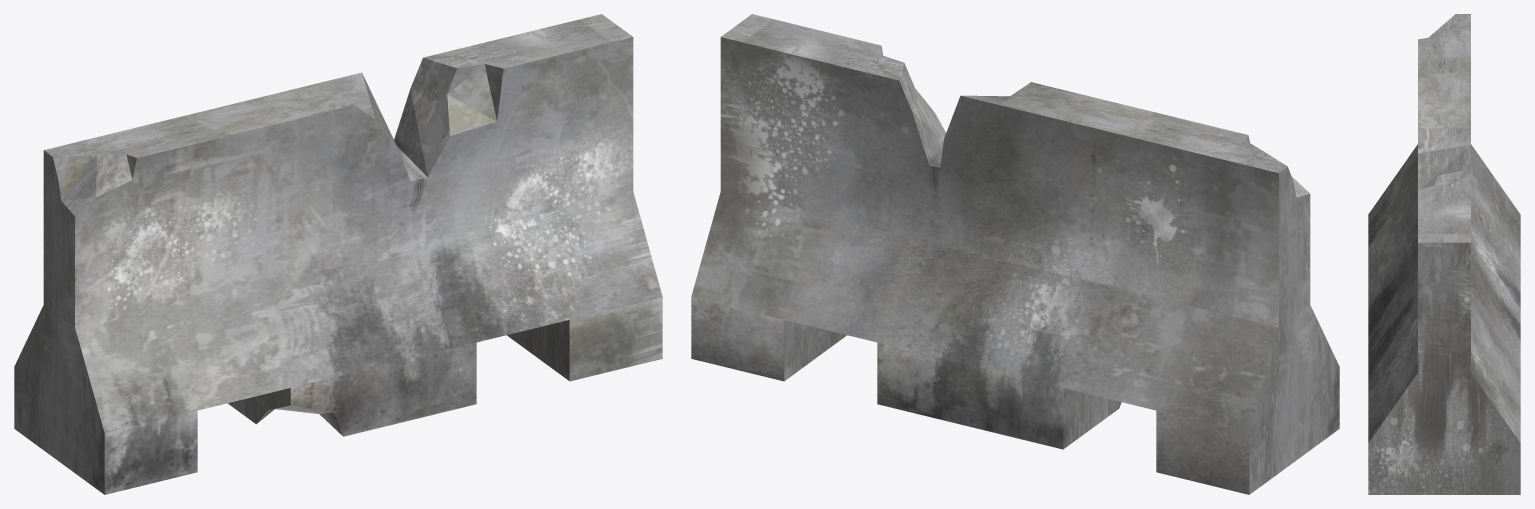
The model's file is Barrera.obj.
3 renders of one model, left to right at view 1: azimuth 30°, elevation 25°; view 2: azimuth 150°, elevation 25°; view 3: azimuth 270°, elevation 25°, orthographic. The views are drawn at different scales.
Visible parts, largest first — view 1: Barrera; view 2: Barrera; view 3: Barrera.
Boxes of the visible parts, x1=… form: Barrera: x1=14, y1=14, x2=662, y2=494; Barrera: x1=691, y1=14, x2=1339, y2=494; Barrera: x1=1368, y1=14, x2=1520, y2=494.
Bounding box in the file's own units: 2.94 × 1.51 × 0.8262.
